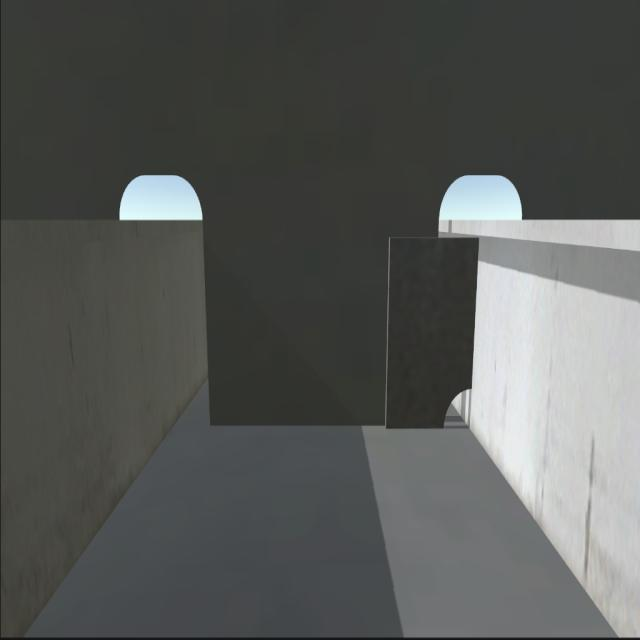fillet_hole: (439, 384, 474, 431)
fillet_yong_jeop_jang: (209, 417, 446, 434)
longi_yong_jeop_jang: (469, 233, 482, 388)
plate_CP01: (388, 236, 478, 428)
